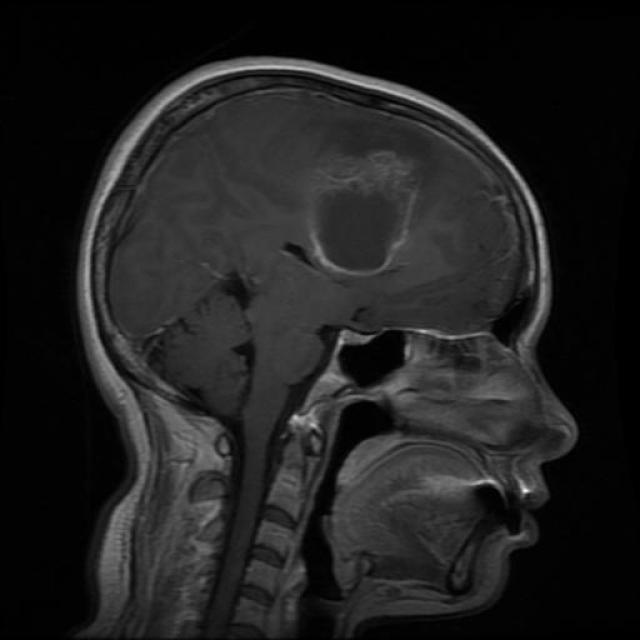glioma: (309, 149, 420, 279)
